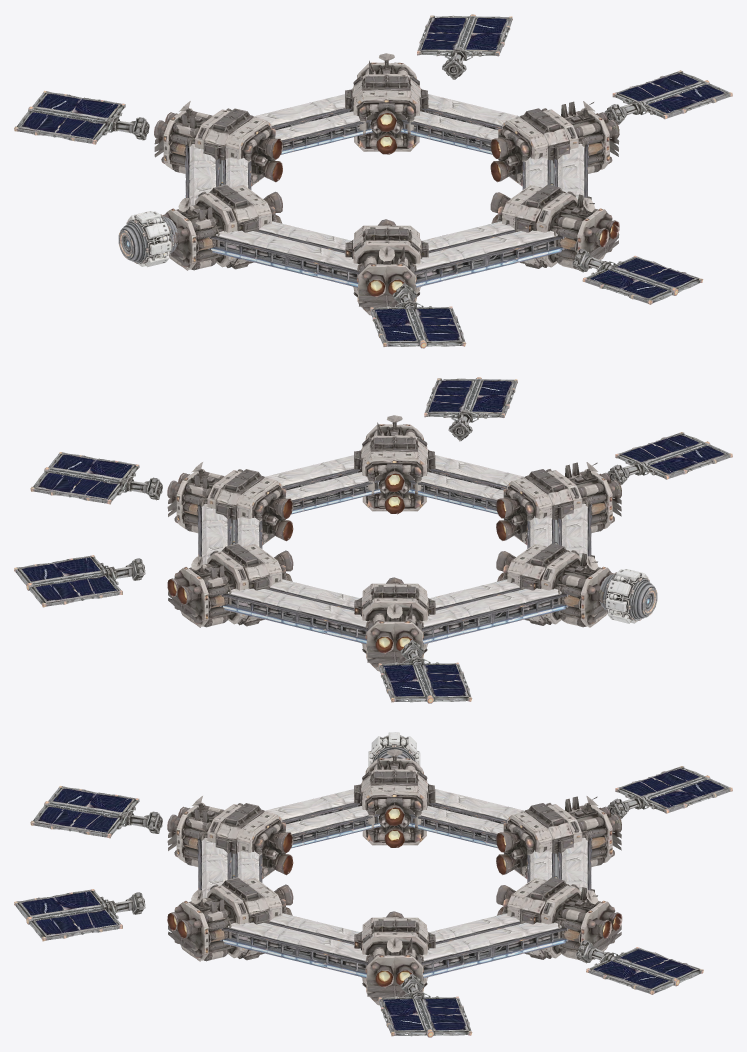
Rendered from transmitter.lite.glb.
The picture shows the model from 3 angles, top to bottom: view 1: azimuth 30°, elevation 25°; view 2: azimuth 150°, elevation 25°; view 3: azimuth 270°, elevation 25°; orthographic projection. The views are drawn at different scales.
Parts seen in each view (by area): view 1: parts_colony-ringModule, parts_colony-ringSegment, parts_colony-solarWing, parts_colony-dockingHub; view 2: parts_colony-ringModule, parts_colony-ringSegment, parts_colony-solarWing, parts_colony-dockingHub; view 3: parts_colony-ringModule, parts_colony-ringSegment, parts_colony-solarWing, parts_colony-dockingHub.
Boxes of the visible parts, x1,y1,x2,y2 form: parts_colony-ringModule: (154,53,619,315); parts_colony-ringSegment: (185,94,588,287); parts_colony-solarWing: (14,14,732,348); parts_colony-dockingHub: (118,211,177,267); parts_colony-ringModule: (167,415,621,671); parts_colony-ringSegment: (197,455,592,644); parts_colony-solarWing: (14,377,732,703); parts_colony-dockingHub: (599,569,657,623); parts_colony-ringModule: (167,749,622,1005); parts_colony-ringSegment: (197,789,592,978); parts_colony-solarWing: (14,766,732,1037); parts_colony-dockingHub: (368,732,420,766).
Size of the model in its own units: 468 by 54.09 by 492.
Materials: 5 (5 with a texture image).
